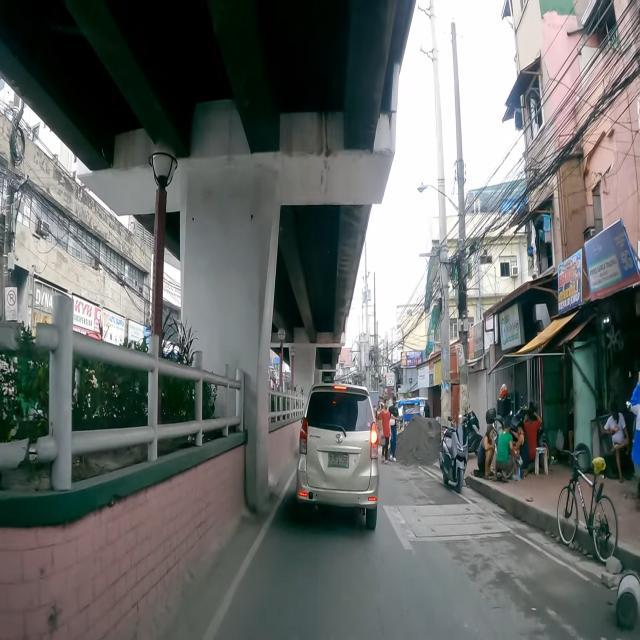bike: (556, 447, 618, 561)
car: (297, 384, 378, 535)
motorcycle: (494, 398, 550, 472), (439, 414, 467, 496), (459, 406, 484, 456)
